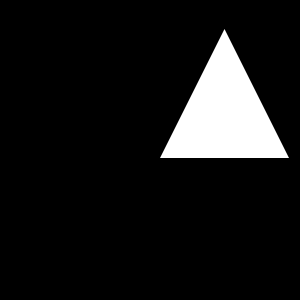triangle: (160, 29, 289, 158)
